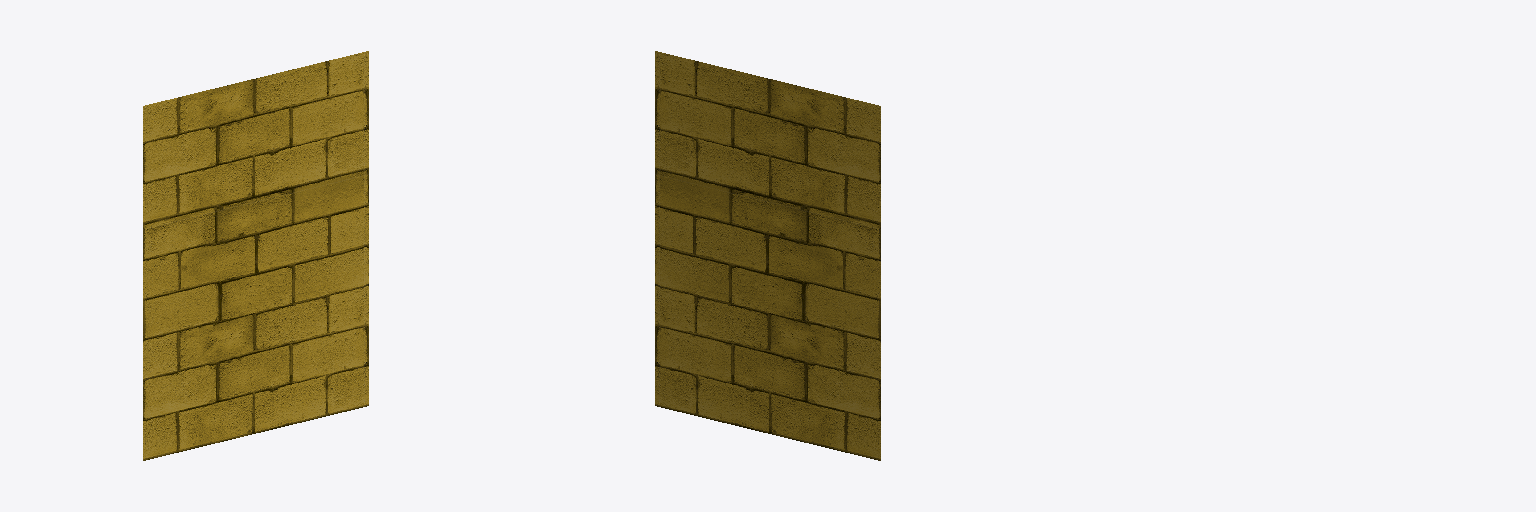
3 views of the same model, side by side, from view 1: azimuth 30°, elevation 25°; view 2: azimuth 150°, elevation 25°; view 3: azimuth 270°, elevation 25° (orthographic).
Parts seen in each view (by area): view 1: brick_wall_x1; view 2: brick_wall_x1; view 3: none.
Boxes of the visible parts, <box> form: brick_wall_x1: <box>143,51,368,460</box>; brick_wall_x1: <box>655,51,880,460</box>.
Size of the model in its own units: 200 by 300 by 0.
1 materials, 1 textured.